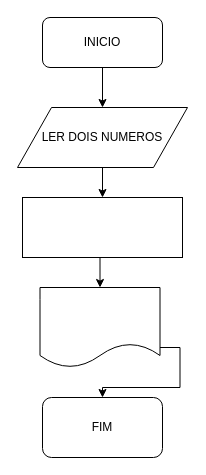
This 206x475 diagram has some shape labels left out. The centre of each missing label's shape, as x and y in pixels:
APRESENTAR A TROCA: point (99, 327)
REALIZAR A TROCA DE A POR B: point (102, 227)
